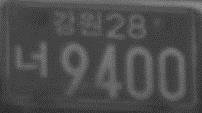0: (159, 46, 187, 102), (126, 45, 154, 100)
2: (106, 13, 126, 40)
4: (95, 44, 122, 98)
8: (129, 14, 146, 39)
9: (60, 42, 90, 97)
강원_O: (51, 8, 103, 38)
너: (13, 41, 50, 80)
